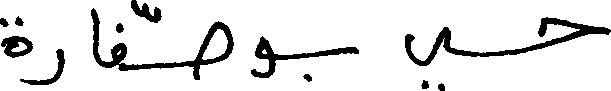X: (540, 12, 610, 53), (406, 22, 448, 90), (0, 11, 31, 89), (198, 16, 231, 84), (33, 44, 62, 89), (253, 31, 272, 82), (111, 18, 124, 75), (91, 3, 98, 68), (344, 42, 357, 58)
